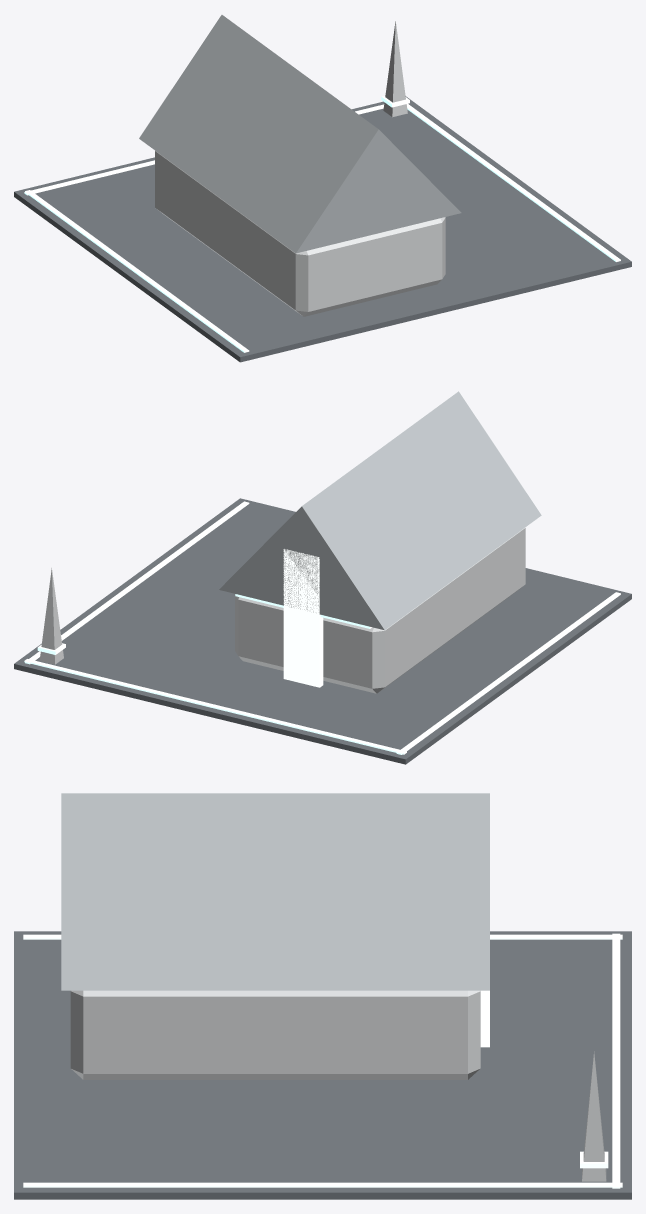
File: zone_low_2_t1.glb
The picture shows the model from 3 angles, top to bottom: view 1: azimuth 30°, elevation 25°; view 2: azimuth 150°, elevation 25°; view 3: azimuth 270°, elevation 25°; orthographic projection. The views are drawn at different scales.
Visible parts, largest first — view 1: zone_low_2_t1, detail; view 2: zone_low_2_t1, detail; view 3: zone_low_2_t1, detail.
Boxes of the visible parts, x1,y1,x2,y2 form: zone_low_2_t1: [14, 15, 631, 362]; detail: [24, 21, 620, 352]; zone_low_2_t1: [14, 391, 631, 764]; detail: [24, 501, 620, 754]; zone_low_2_t1: [14, 793, 631, 1199]; detail: [23, 933, 622, 1188].
Size of the model in its own units: 19.6 by 8.72 by 19.6.
